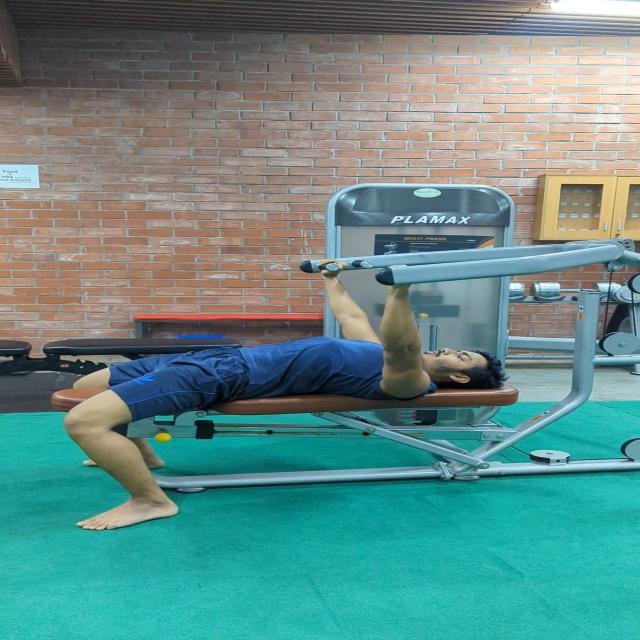Normal_BrenchPress: (51, 250, 518, 539)
